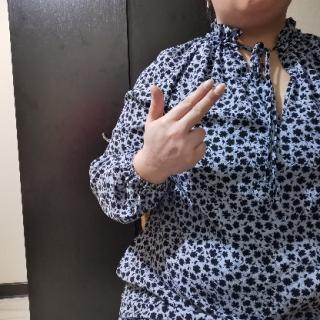GHAYN: (142, 76, 226, 182)
